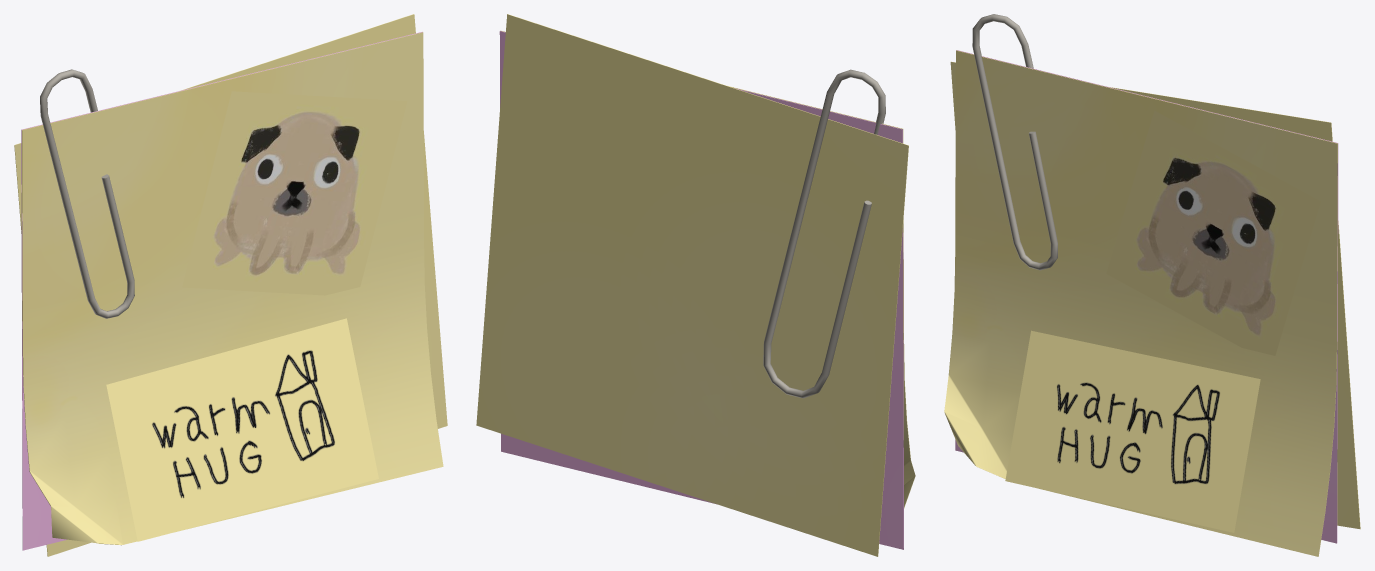
File: nota_nilo.glb
3 views of the same model, side by side, from view 1: azimuth 30°, elevation 25°; view 2: azimuth 150°, elevation 25°; view 3: azimuth 330°, elevation 25° (orthographic). The views are drawn at different scales.
Visible parts, largest first — view 1: Plane.004, Plane.001, Plane, Plane.003; view 2: Plane.004, Plane.003; view 3: Plane.004, Plane.001, Plane, Plane.003.
Boxes of the visible parts, left/top/right/bottom form: Plane.004: left=14, top=14, right=447, bottom=556; Plane.001: left=106, top=318, right=378, bottom=541; Plane: left=182, top=91, right=407, bottom=295; Plane.003: left=40, top=69, right=134, bottom=318; Plane.004: left=476, top=14, right=915, bottom=556; Plane.003: left=763, top=69, right=885, bottom=398; Plane.004: left=944, top=50, right=1360, bottom=556; Plane.001: left=1005, top=330, right=1260, bottom=532; Plane: left=1106, top=110, right=1320, bottom=355; Plane.003: left=972, top=14, right=1057, bottom=270.
Size of the model in its own units: 4.03 by 4.27 by 0.6001.
3 materials, 3 textured.
